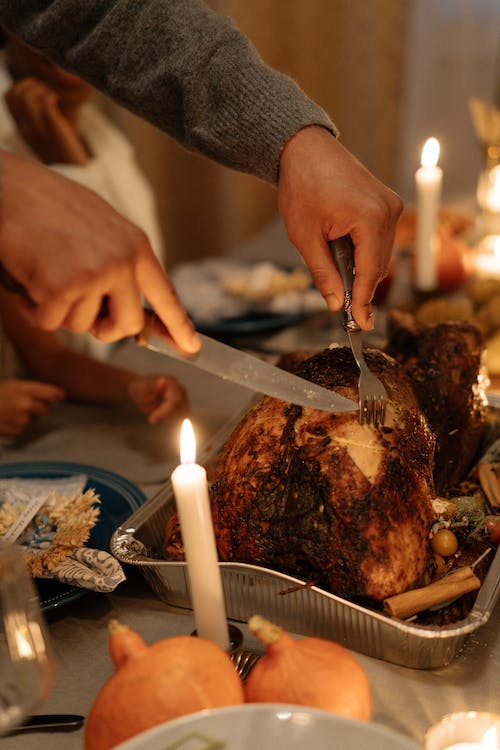knife: (138, 304, 362, 414)
